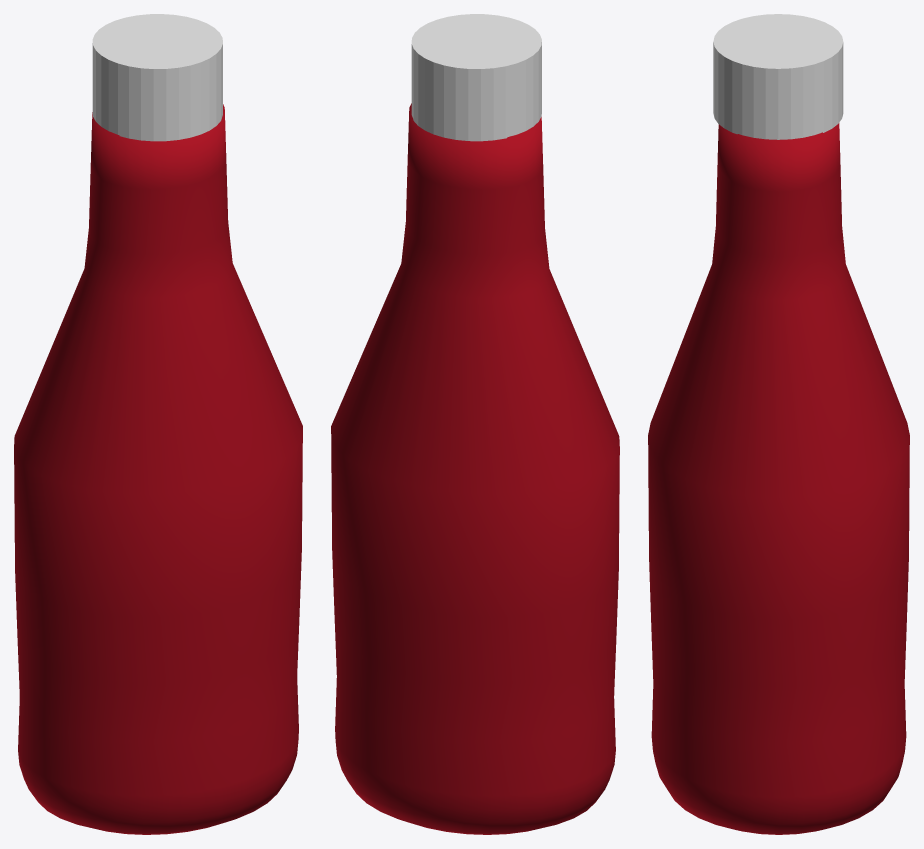
Rendered from ketchup.fbx.
3 views of the same model, side by side, from view 1: azimuth 30°, elevation 25°; view 2: azimuth 150°, elevation 25°; view 3: azimuth 270°, elevation 25° (orthographic).
Visible parts, largest first — view 1: Cylinder.043, Cylinder.045; view 2: Cylinder.043, Cylinder.045; view 3: Cylinder.043, Cylinder.045.
Boxes of the visible parts, x1,y1,x2,y2 form: Cylinder.043: (14,104,302,834); Cylinder.045: (92,14,222,141); Cylinder.043: (331,103,619,834); Cylinder.045: (411,14,541,141); Cylinder.043: (648,123,909,834); Cylinder.045: (713,14,843,139).
Size of the model in its own units: 332 by 933 by 293.
